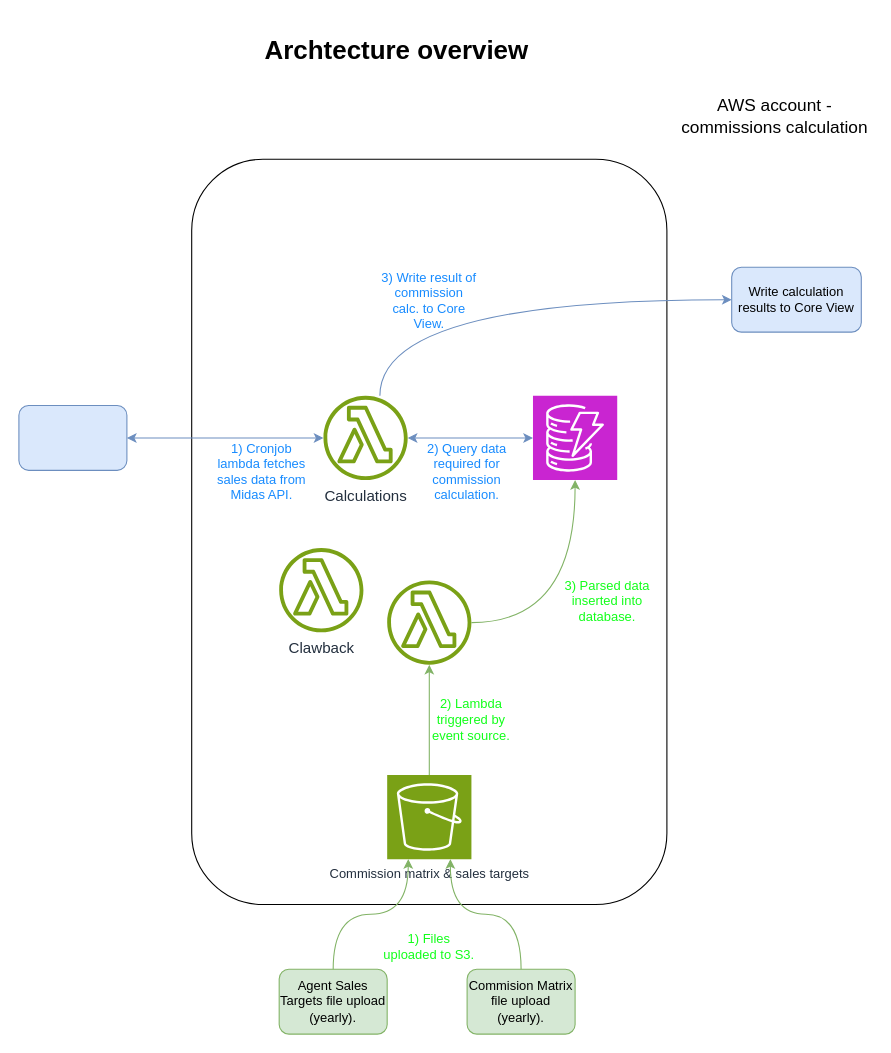
Image size: 891x1053. Some labels were removed from this diagram. Here are the shapes that lost their labels. From the top down, the box of each, then its label:
(18, 404, 127, 470): Midas API
(532, 395, 617, 480): DynamoDB
(387, 580, 471, 664): Parsing
